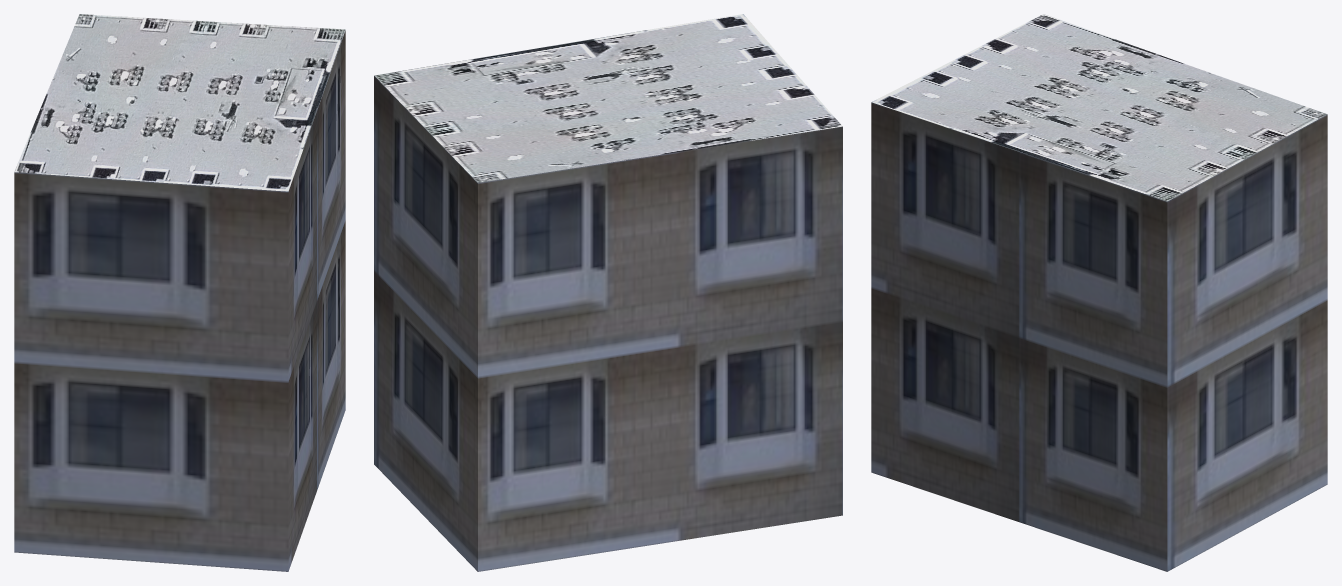
File: ResTex__2113.fbx
3 views of the same model, side by side, from view 1: azimuth 30°, elevation 25°; view 2: azimuth 150°, elevation 25°; view 3: azimuth 270°, elevation 25° (orthographic). The views are drawn at different scales.
Parts seen in each view (by area): view 1: CityEngineMaterial_3_m, CityEngineMaterial_m; view 2: CityEngineMaterial_3_m, CityEngineMaterial_m; view 3: CityEngineMaterial_3_m, CityEngineMaterial_m.
Boxes of the visible parts, <box> form: CityEngineMaterial_3_m: <box>14,30,345,571</box>; CityEngineMaterial_m: <box>14,14,345,191</box>; CityEngineMaterial_3_m: <box>374,76,842,571</box>; CityEngineMaterial_m: <box>374,14,842,182</box>; CityEngineMaterial_3_m: <box>871,102,1327,571</box>; CityEngineMaterial_m: <box>872,14,1327,201</box>.
Bounding box in the file's own units: 6.52 × 6 × 6.7.
2 materials, 2 textured.
